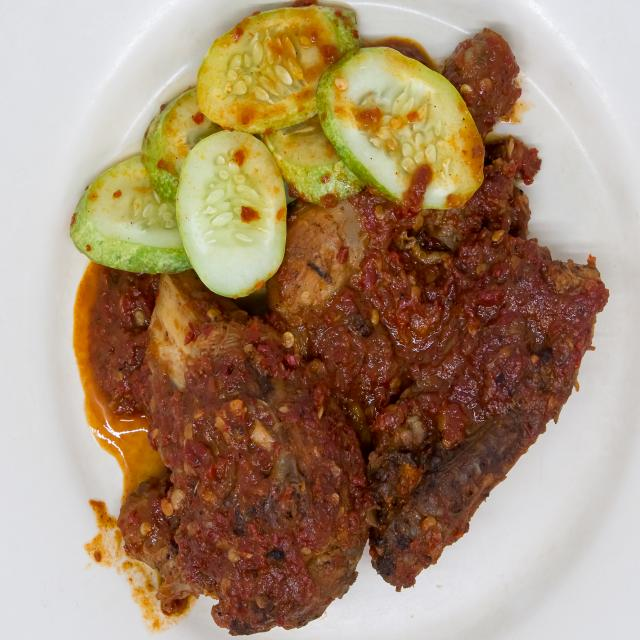Ayam-Bumbu-Rujak: (82, 19, 614, 634)
